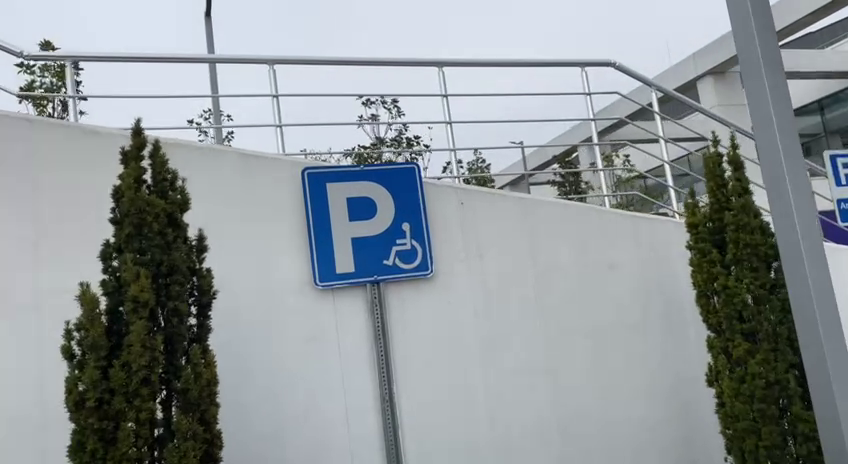parking: (300, 159, 437, 290)
